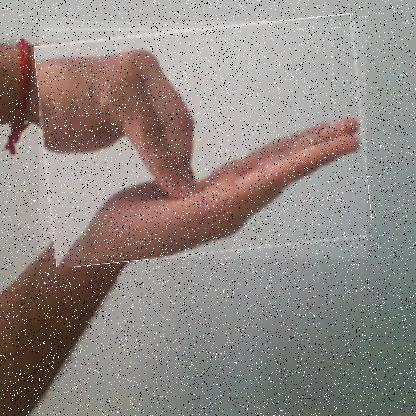Z: (39, 21, 368, 260)
